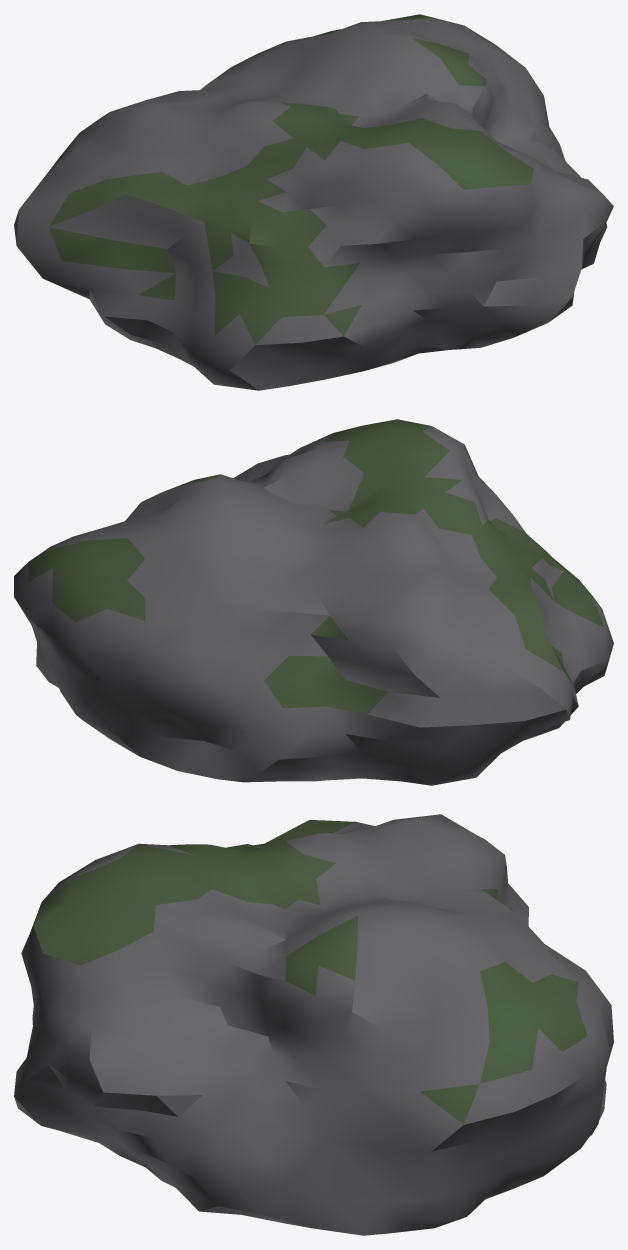
The model's file is rock_boulder_01.glb.
3 renders of one model, top to bottom at view 1: azimuth 30°, elevation 25°; view 2: azimuth 150°, elevation 25°; view 3: azimuth 270°, elevation 25°, orthographic. The views are drawn at different scales.
Parts seen in each view (by area): view 1: rock_a; view 2: rock_a; view 3: rock_a.
Part boxes in pixels (x1=…): rock_a: x1=14, y1=14, x2=613, y2=390; rock_a: x1=14, y1=419, x2=613, y2=785; rock_a: x1=14, y1=814, x2=613, y2=1235.
Bounding box in the file's own units: 1.63 × 0.59 × 1.38.
